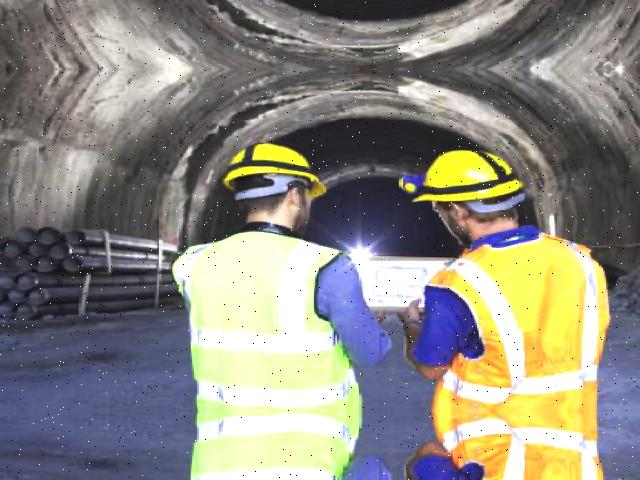Helmet: (398, 144, 531, 211), (218, 137, 332, 209)
